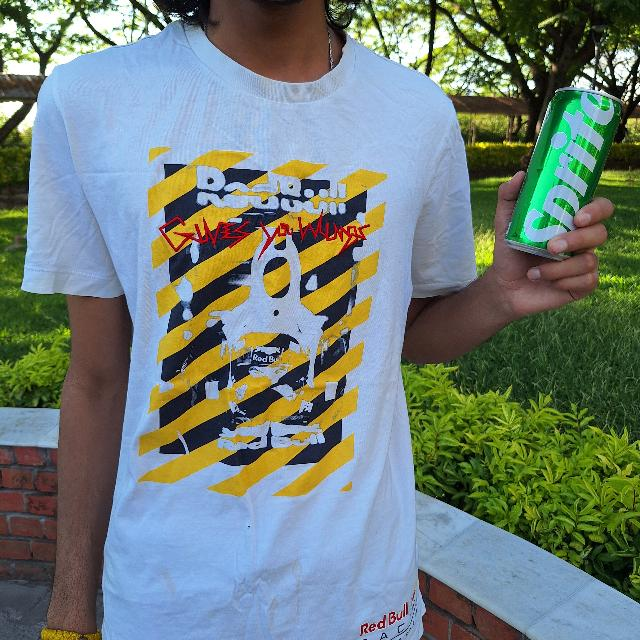Sprite: (509, 91, 625, 256)
